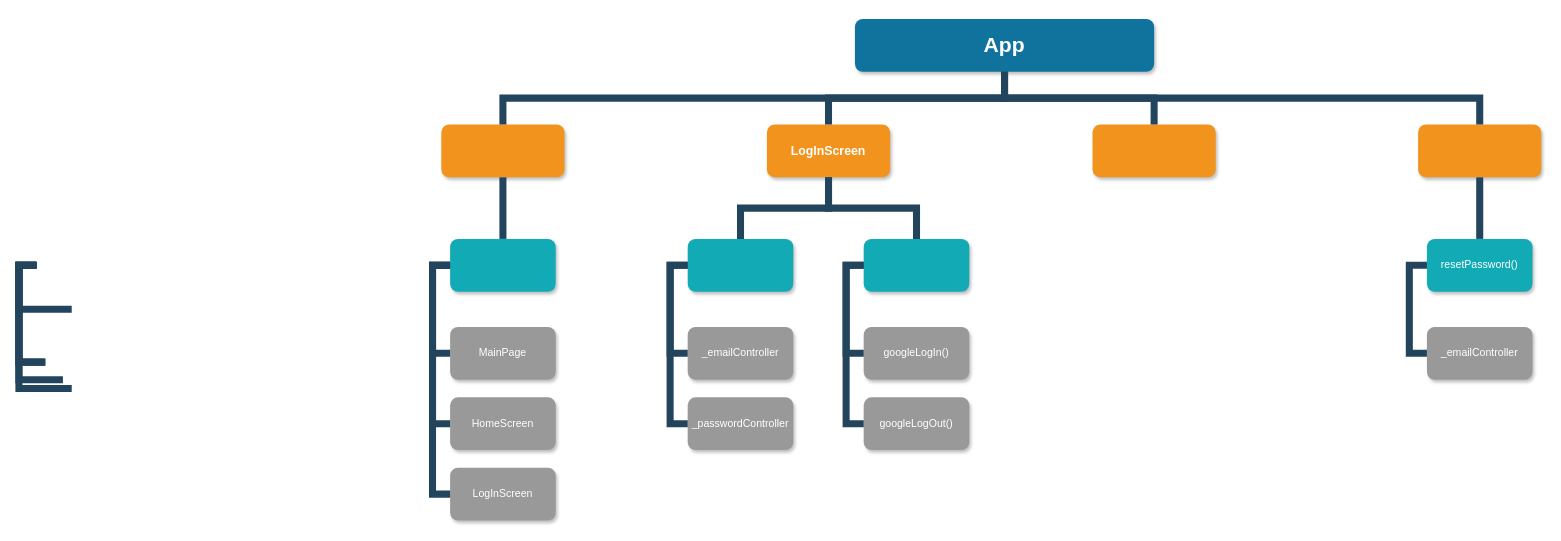
The diagram is 1561 pixels wide and 541 high, and some of its shapes have lost their labels. The shapes that lost their labels are listed below. From the top down, each one's centre as x and y in pixels, then its label:
the point at 503,152: Main
the point at 1155,152: SignUpScreen
the point at 1480,152: ForgotPasswordScreen
the point at 503,266: SplashScreen()
the point at 741,266: signInEmailAndPassword()
the point at 917,266: signInWithGoogle()
